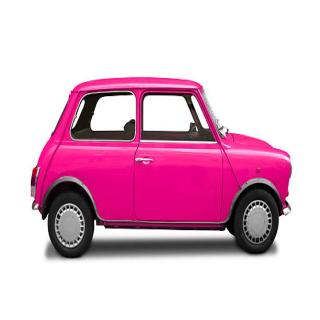Normal_vehicle: (29, 70, 294, 265)
